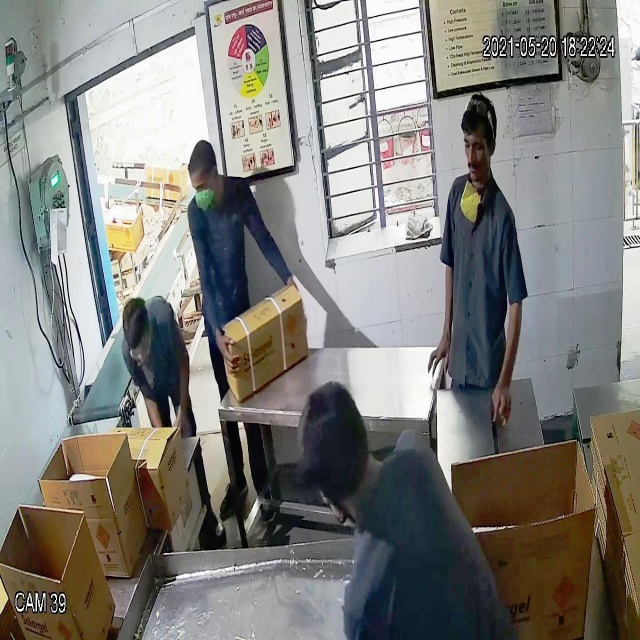Sin_gafas: (456, 129, 495, 164)
